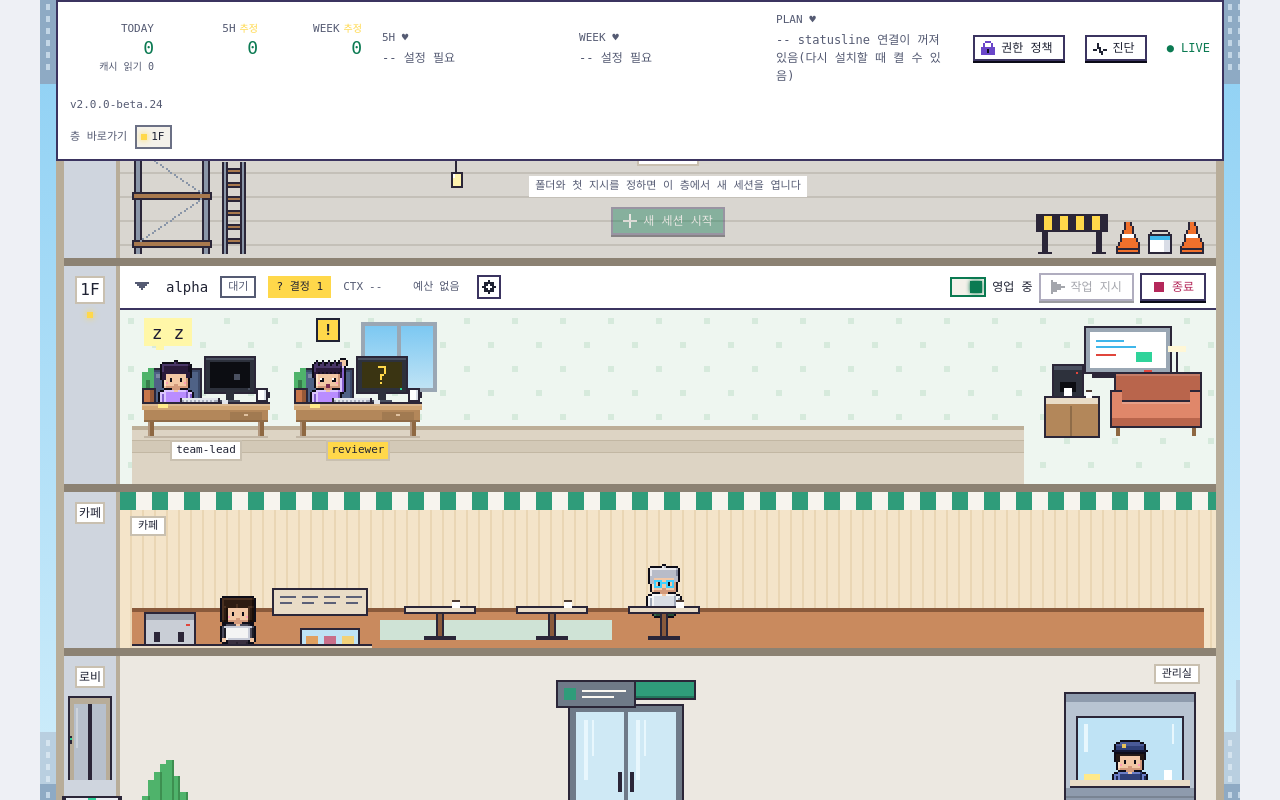
Test case: 에이전트 패널 열기 › 결정이 있는 캐릭터는 지금처럼 보고서가 먼저 열린다
This screenshot has width=1280, height=800.
(page scrolled)
Click the button with test id "desk-reviewer" at (358,401), box x1=292 y1=318 x2=424 y2=484
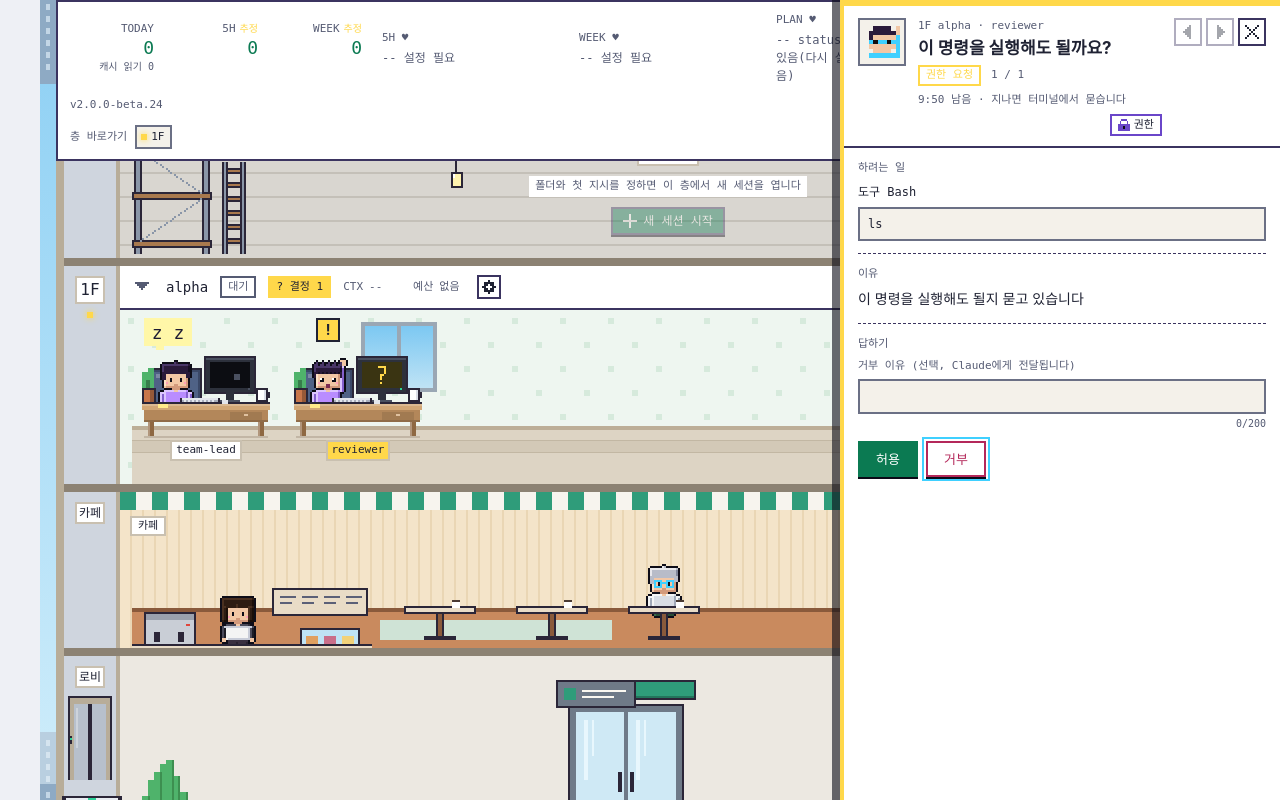
Expected: the dialog with id "decision-report" is shown, x1=840 y1=0 x2=1279 y2=799
